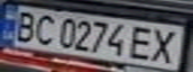0: (54, 16, 78, 51)
2: (72, 17, 93, 53)
4: (106, 20, 133, 57)
7: (87, 19, 109, 54)
B: (6, 8, 42, 43)
C: (30, 12, 60, 46)
E: (124, 22, 160, 61)
X: (145, 26, 184, 64)
